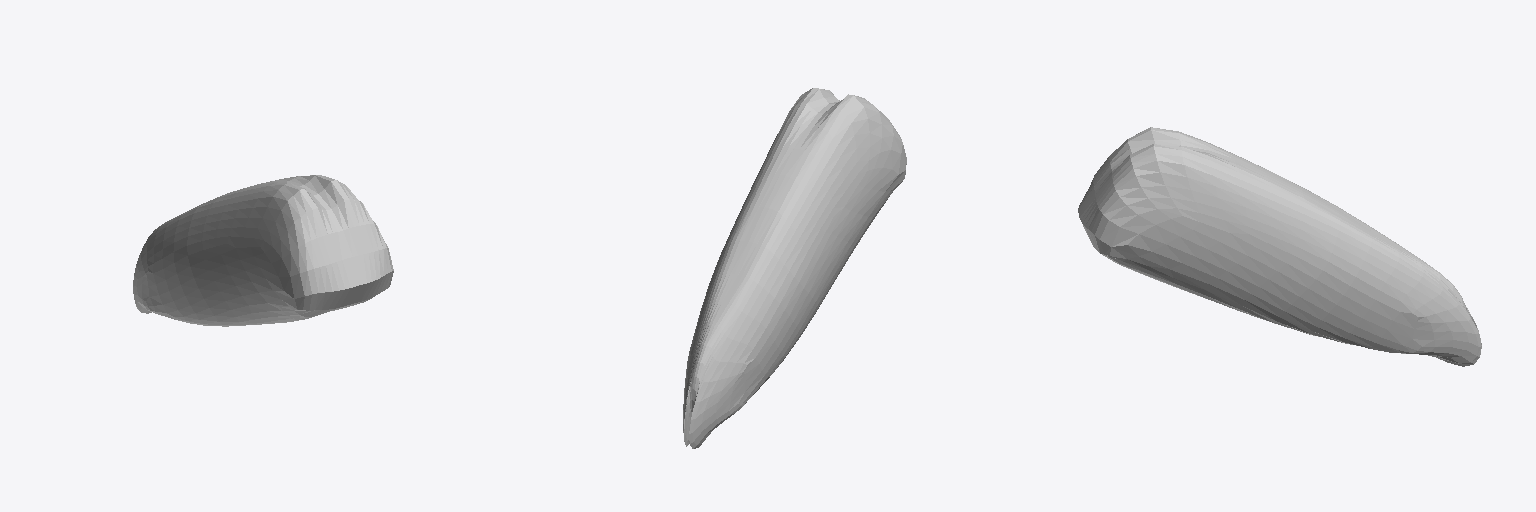
The model's file is rearlargetoe5obj.obj.
3 renders of one model, left to right at view 1: azimuth 30°, elevation 25°; view 2: azimuth 150°, elevation 25°; view 3: azimuth 270°, elevation 25°, orthographic.
Visible parts, largest first — view 1: Cube.167_Cube.169; view 2: Cube.167_Cube.169; view 3: Cube.167_Cube.169.
Boxes of the visible parts, x1,y1,x2,y2 form: Cube.167_Cube.169: [133, 175, 393, 326]; Cube.167_Cube.169: [683, 88, 906, 448]; Cube.167_Cube.169: [1078, 127, 1481, 366].
Size of the model in its own units: 0.0224 by 0.0493 by 0.0761.